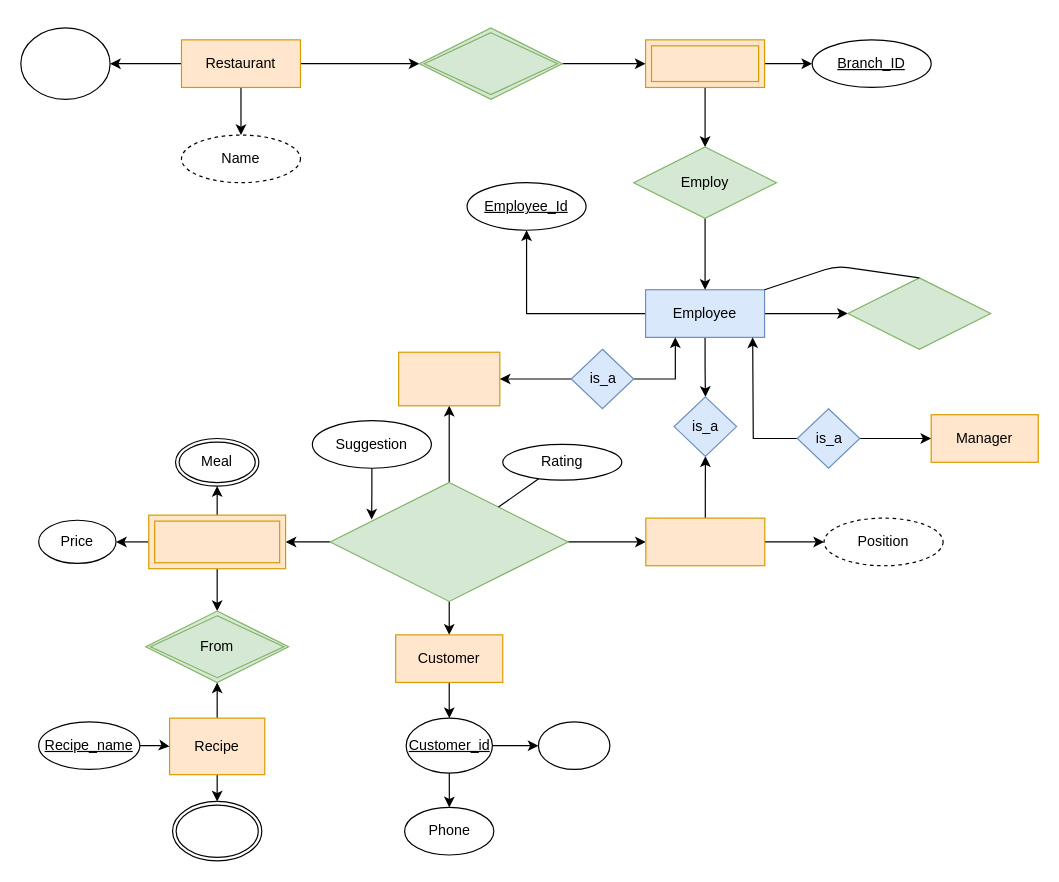
The diagram is 1059 pixels wide and 882 high, and some of its shapes have lost their labels. Here are the shapes that lost their labels. From the top down, the centre of each, then its label:
At point (65, 63): "Cin_num".
At point (490, 63): "Branch_of".
At point (704, 63): "Branch".
At point (919, 313): "Supervisor".
At point (448, 378): "Waiter".
At point (217, 541): "Dish".
At point (448, 541): "Feedback".
At point (705, 541): "Chef".
At point (573, 745): "Time".
At point (216, 830): "Ingredients".
